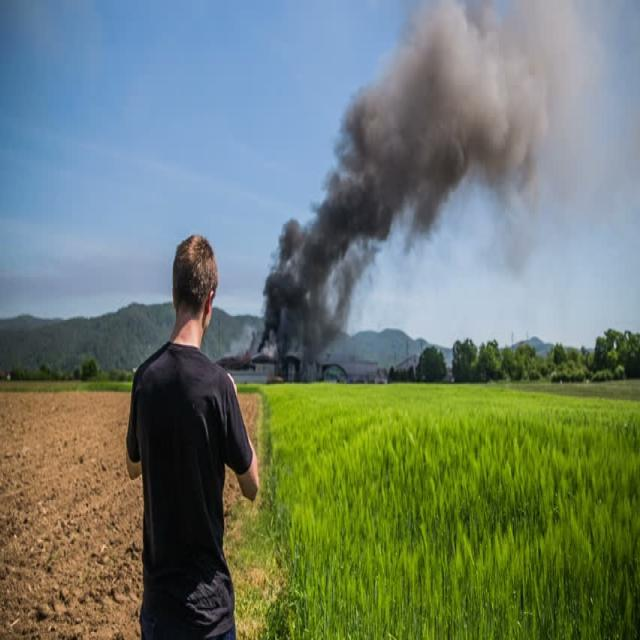smoke: (362, 0, 619, 241), (264, 128, 384, 364)
